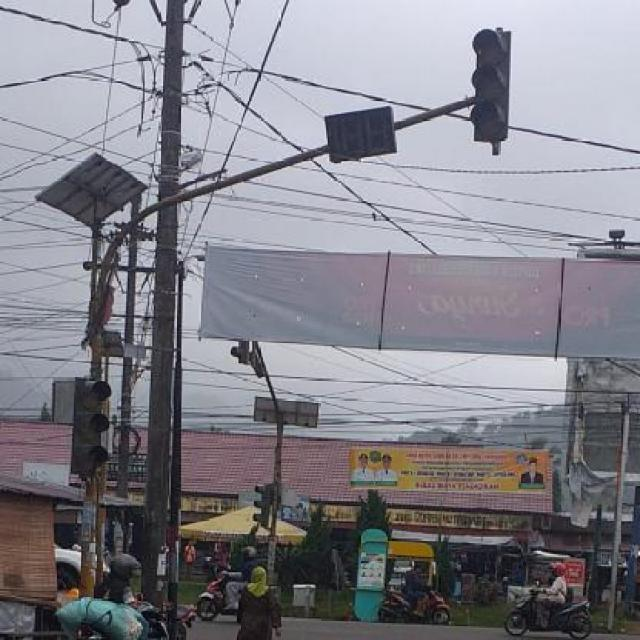traffic light: (474, 31, 511, 143), (73, 383, 111, 483)
